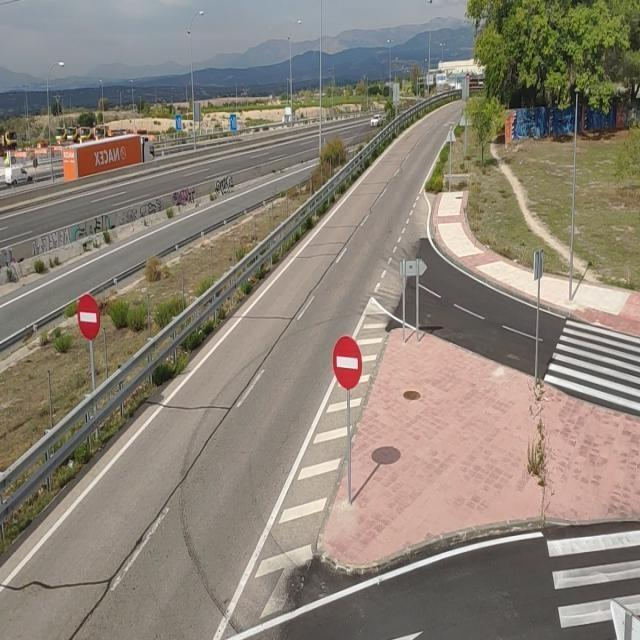Car: (369, 114, 385, 127)
Truck: (61, 132, 156, 180)
Van: (3, 168, 35, 185)
